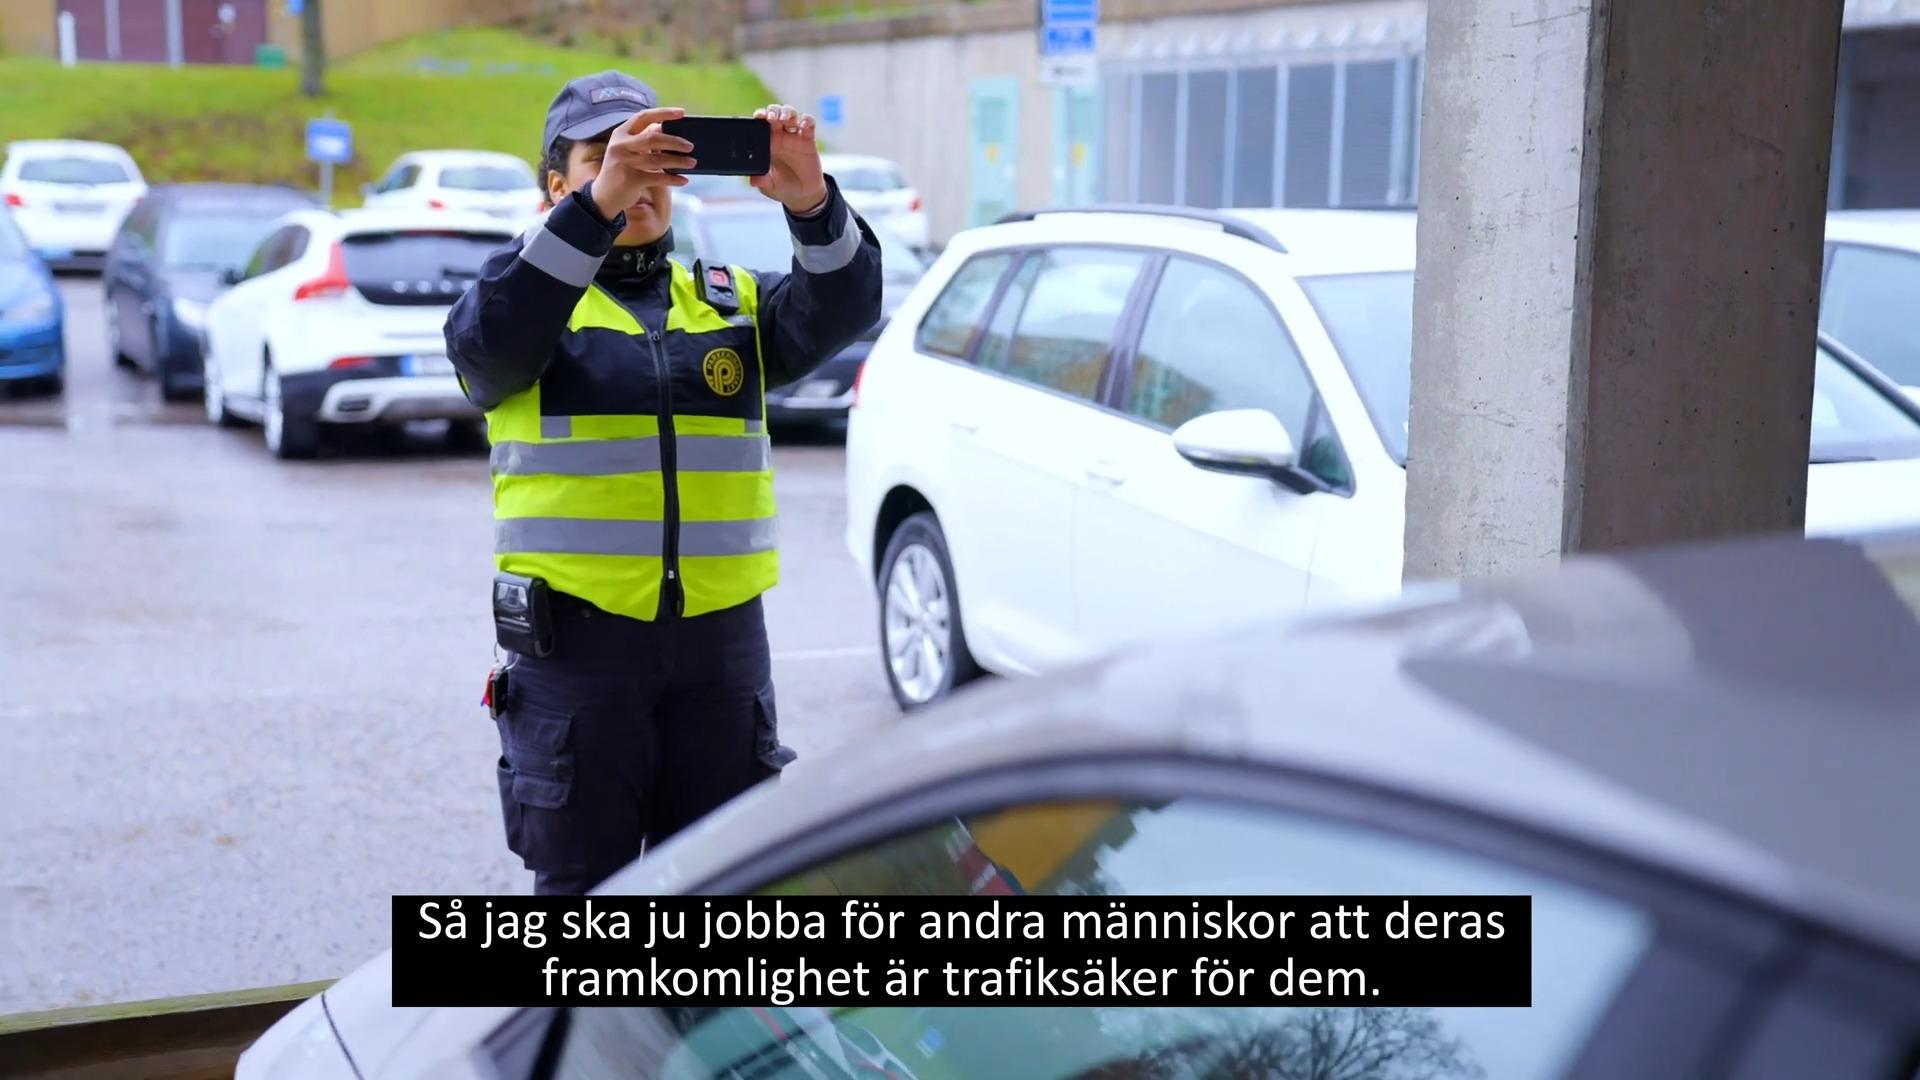parking-attendant: (444, 73, 881, 894)
